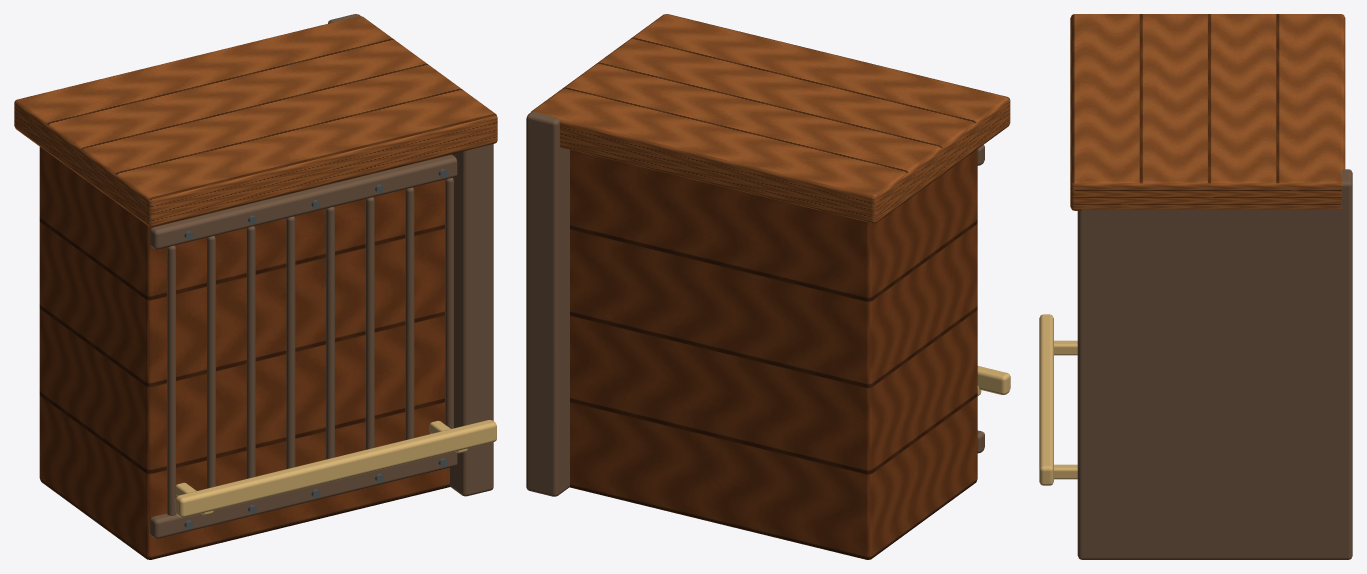
The model's file is adventurers-tavern-and-guild-hall-bar-counter-end-3ef04d3f__24695.glb.
The picture shows the model from 3 angles, left to right: view 1: azimuth 30°, elevation 25°; view 2: azimuth 150°, elevation 25°; view 3: azimuth 270°, elevation 25°; orthographic projection.
Parts seen in each view (by area): view 1: bar-counter-end; view 2: bar-counter-end; view 3: bar-counter-end.
Boxes of the visible parts, bbox=[...] form: bar-counter-end: bbox=[14, 14, 497, 559]; bar-counter-end: bbox=[526, 14, 1010, 559]; bar-counter-end: bbox=[1039, 14, 1352, 559].
Bounding box in the file's own units: 1.1 × 1.14 × 0.855.
Materials: 5 (2 with a texture image).
